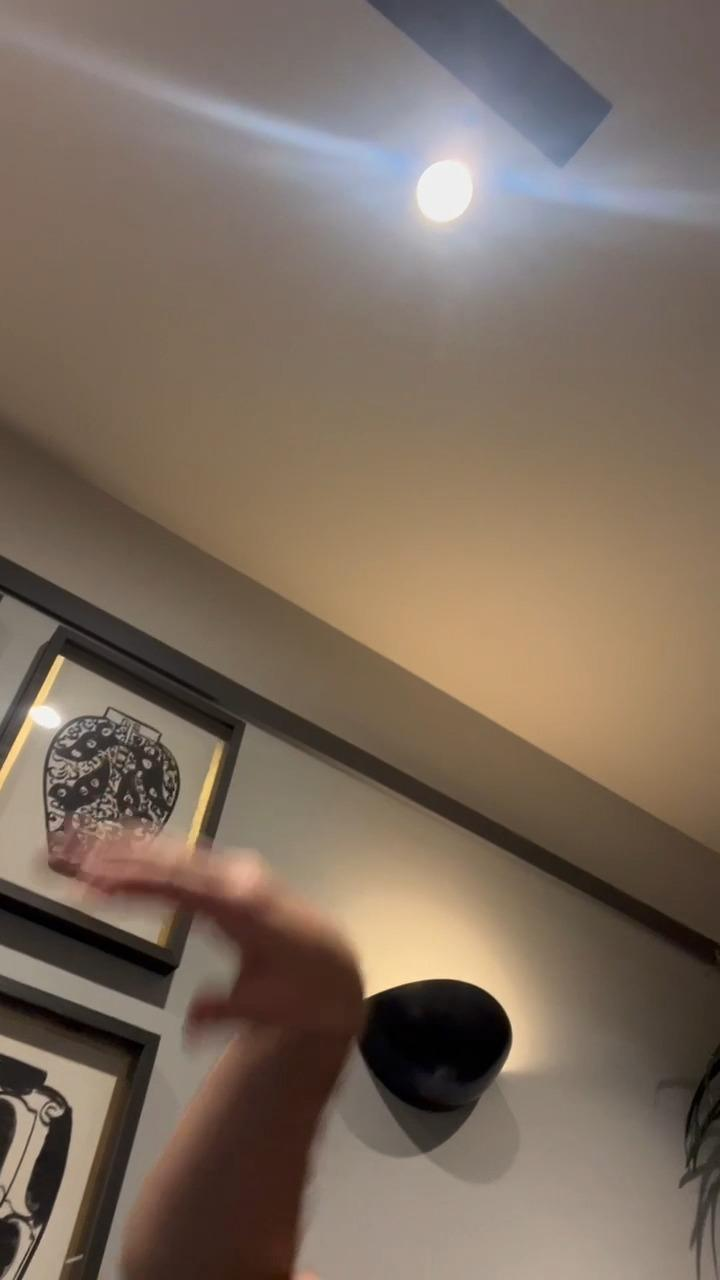Paper: (56, 837, 369, 1044)
